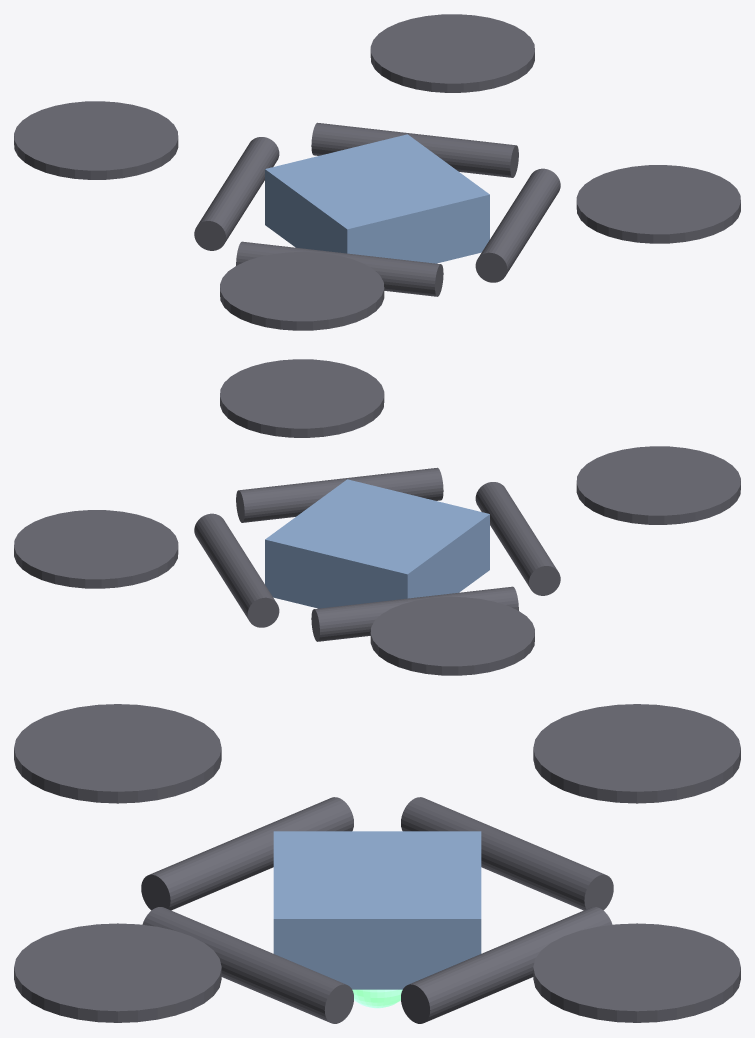
The model's file is drone.glb.
The picture shows the model from 3 angles, top to bottom: view 1: azimuth 30°, elevation 25°; view 2: azimuth 150°, elevation 25°; view 3: azimuth 270°, elevation 25°; orthographic projection. The views are drawn at different scales.
Parts seen in each view (by area): view 1: Body, Rotor0, Rotor3, Rotor1, Rotor2, Arm0, Arm1, Arm2, Arm3; view 2: Body, Rotor1, Rotor2, Rotor0, Rotor3, Arm1, Arm0, Arm3, Arm2; view 3: Body, Rotor0, Rotor1, Rotor2, Rotor3, Arm2, Arm3, Arm0, Arm1, LED.
Part boxes in pixels (x1,y1,x2,y2): Body: (265,134,489,263); Rotor0: (370,14,534,92); Rotor3: (220,252,384,330); Rotor1: (576,165,740,243); Rotor2: (14,101,178,179); Arm0: (311,122,518,177); Arm1: (475,168,560,282); Arm2: (194,137,279,250); Arm3: (236,241,443,296); Body: (265,479,489,608); Rotor1: (220,359,384,437); Rotor2: (370,597,534,675); Rotor0: (14,510,178,588); Rotor3: (576,446,740,524); Arm1: (236,467,443,522); Arm0: (194,513,279,627); Arm3: (475,482,560,595); Arm2: (311,586,518,641); Body: (273,831,481,989); Rotor0: (533,923,740,1022); Rotor1: (14,923,221,1022); Rotor2: (533,704,740,803); Rotor3: (14,704,221,803); Arm2: (401,797,613,910); Arm3: (141,797,353,910); Arm0: (401,907,612,1023); Arm1: (142,907,353,1023); LED: (352,989,402,1008).
Bounding box in the file's own units: 0.28 × 0.0625 × 0.28.
